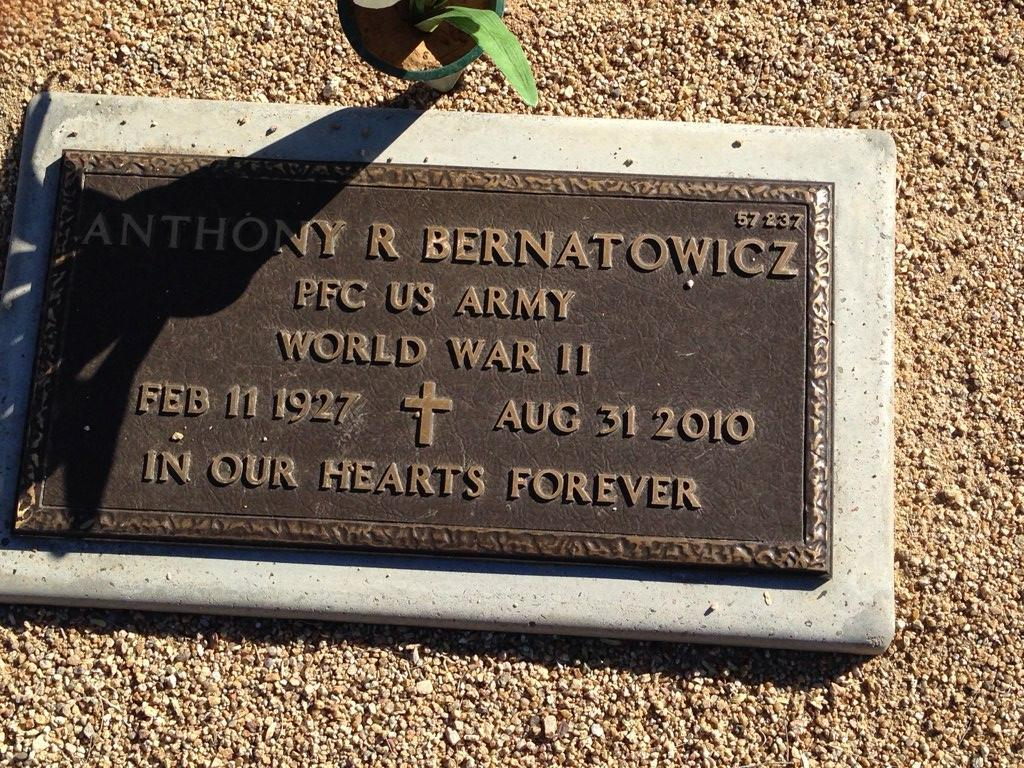flat: (4, 81, 916, 687)
